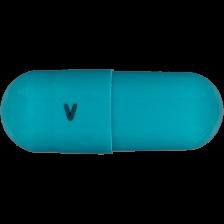0603-3855: (0, 0, 224, 224)
